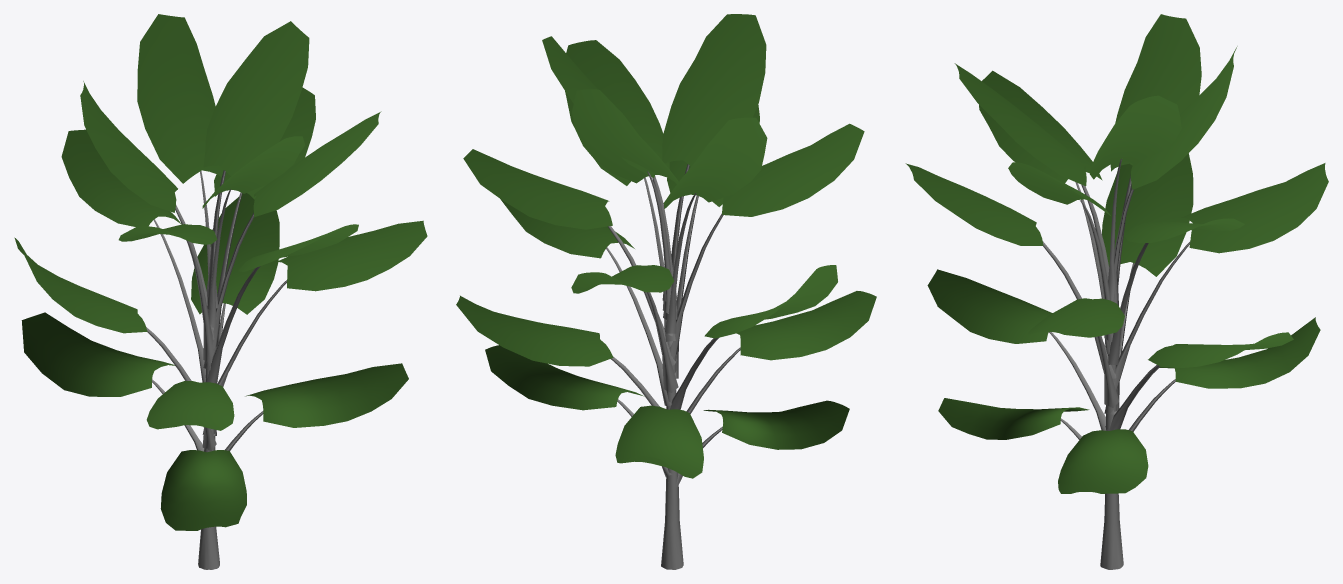
Rendered from SM_plant_tropical_04.fbx.
The picture shows the model from 3 angles, left to right: view 1: azimuth 30°, elevation 25°; view 2: azimuth 150°, elevation 25°; view 3: azimuth 270°, elevation 25°; orthographic projection. The views are drawn at different scales.
Parts seen in each view (by area): view 1: tree019; view 2: tree019; view 3: tree019.
Part boxes in pixels (x1,y1,x2,y2): tree019: [14, 14, 427, 569]; tree019: [456, 14, 876, 569]; tree019: [905, 14, 1328, 569].
Bounding box in the file's own units: 48.32 × 64.01 × 46.85.
